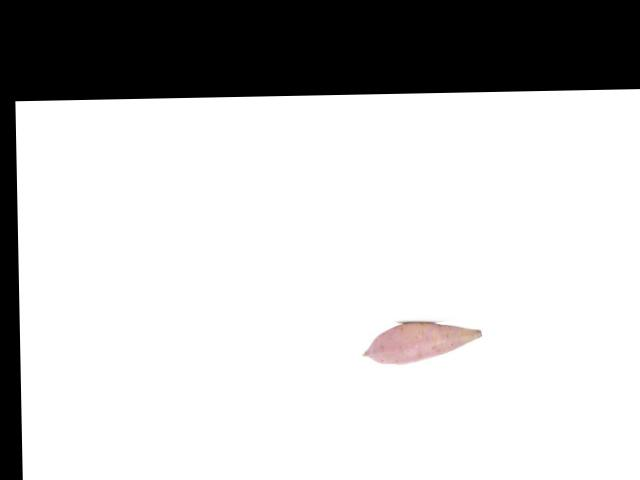sweet_potato: (361, 323, 482, 365)
